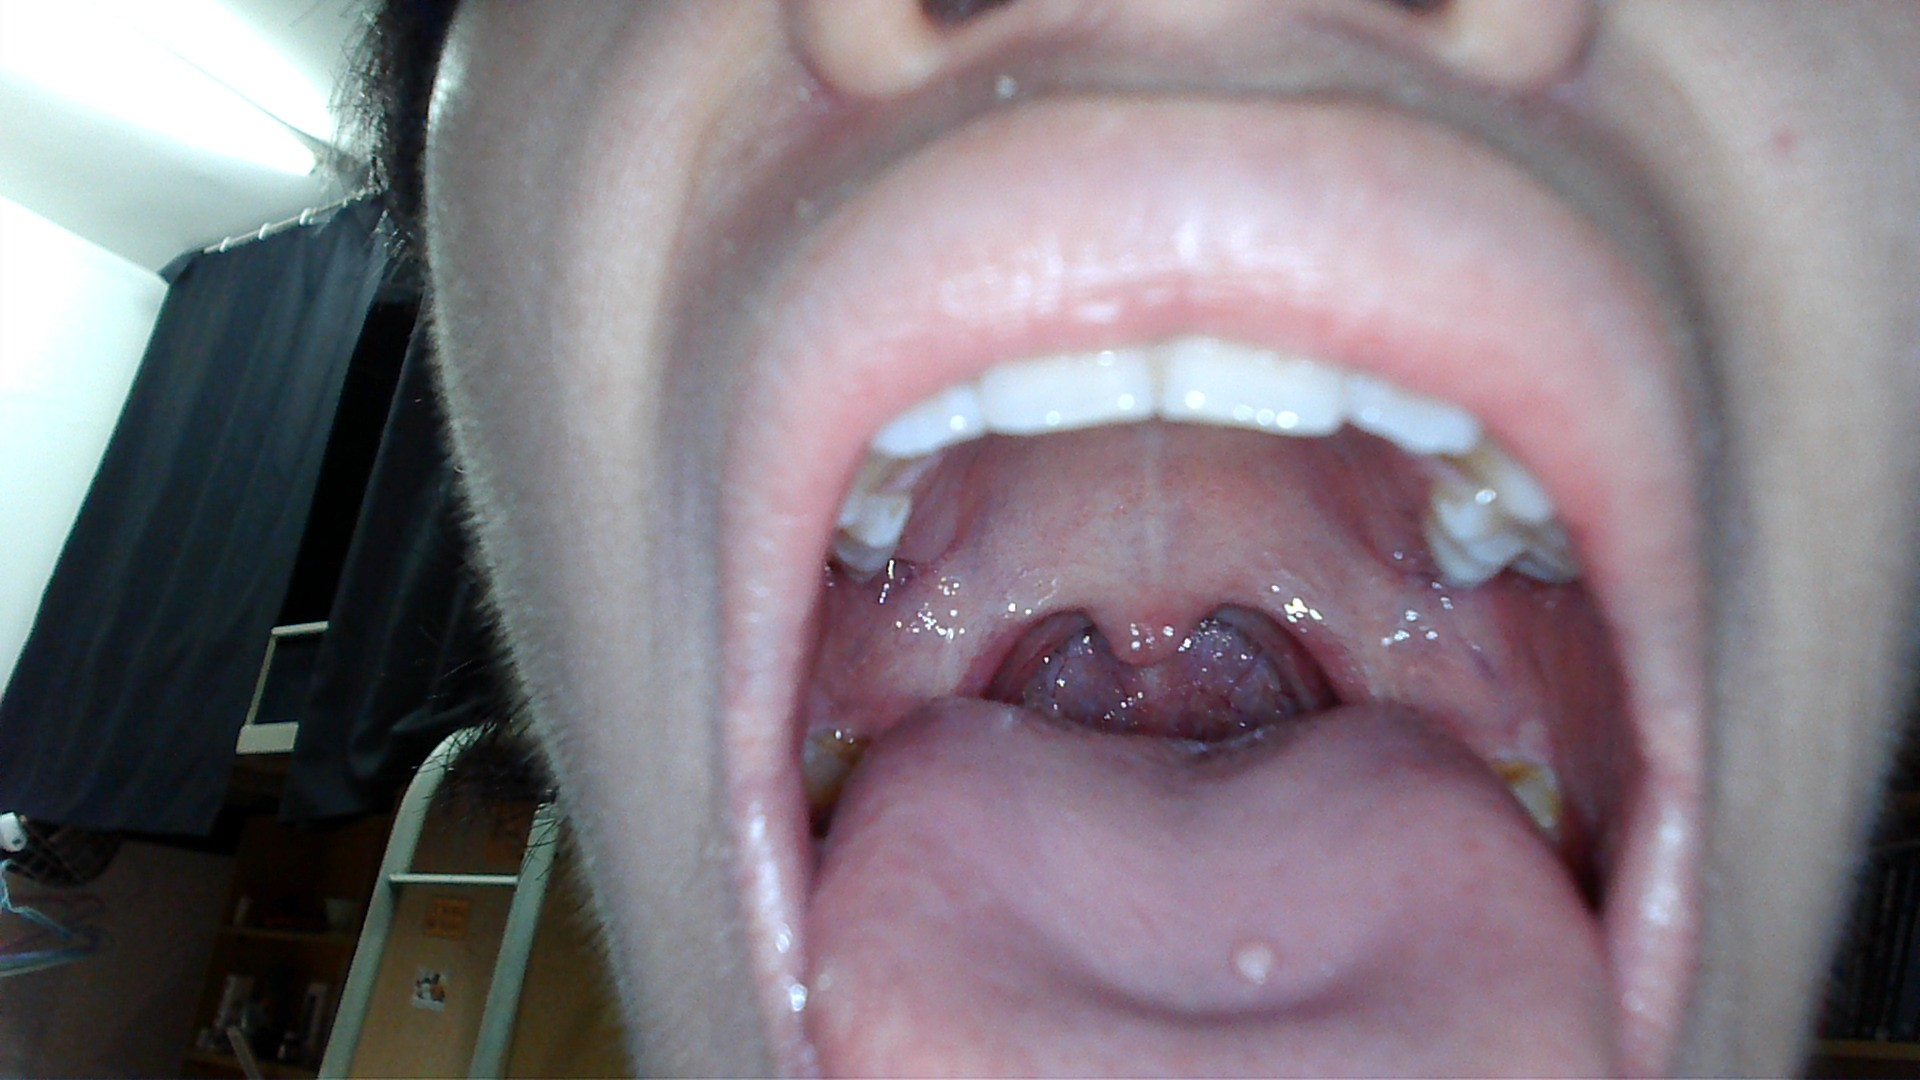throat: (1282, 588, 1374, 700), (938, 592, 1026, 700)
